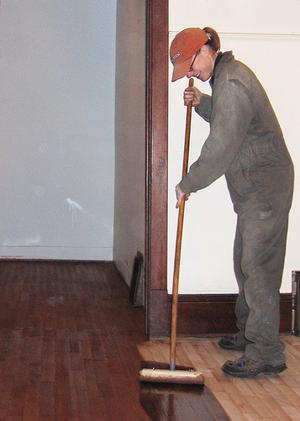person: (170, 25, 295, 381)
